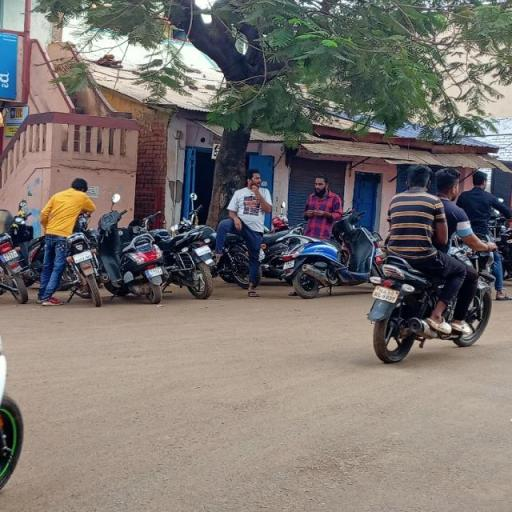bike: (360, 153, 512, 365)
numberplate: (370, 285, 402, 309)
withouthelmet: (437, 167, 462, 195), (408, 165, 430, 190)
